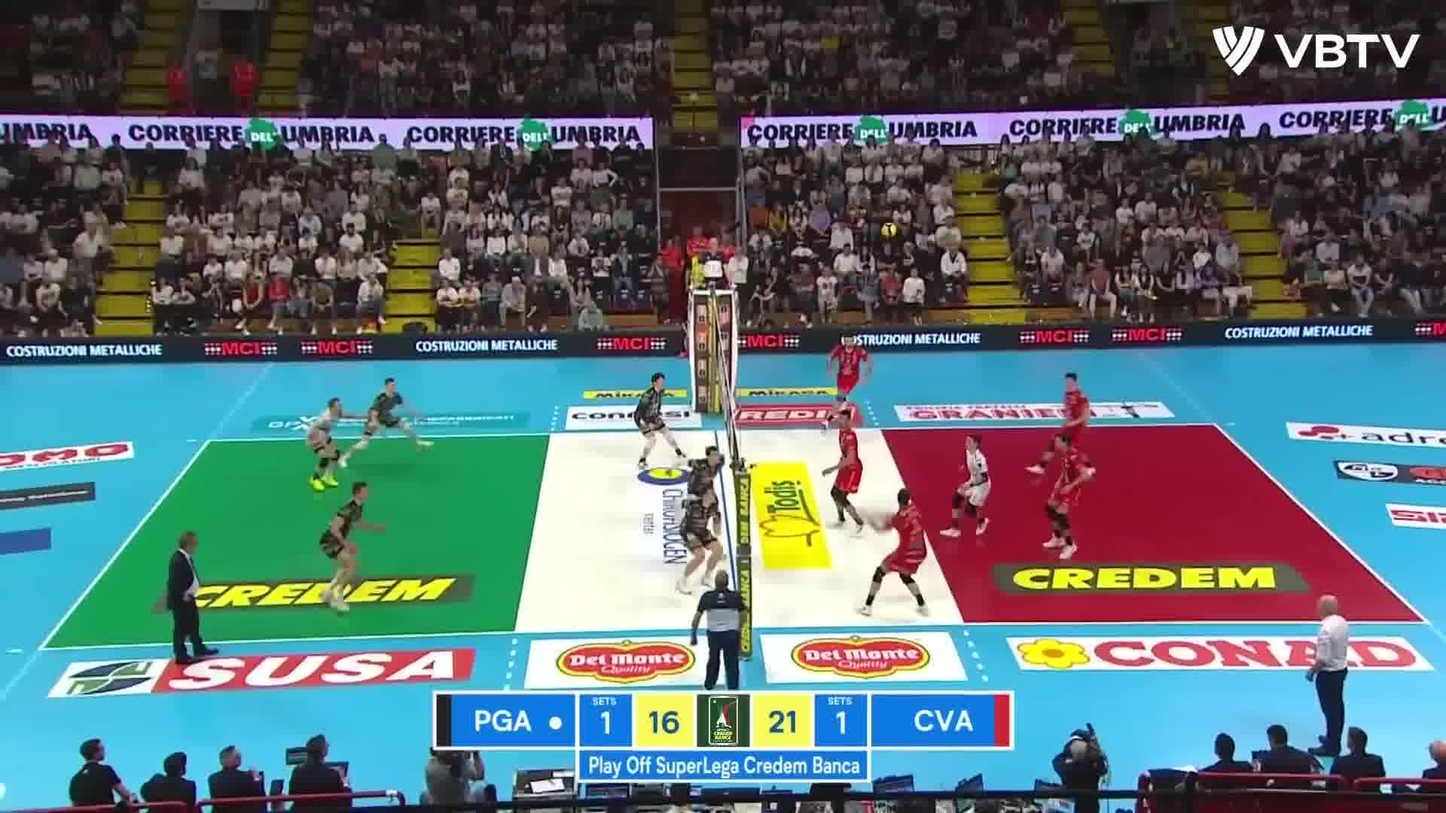balls: (880, 218, 902, 242)
